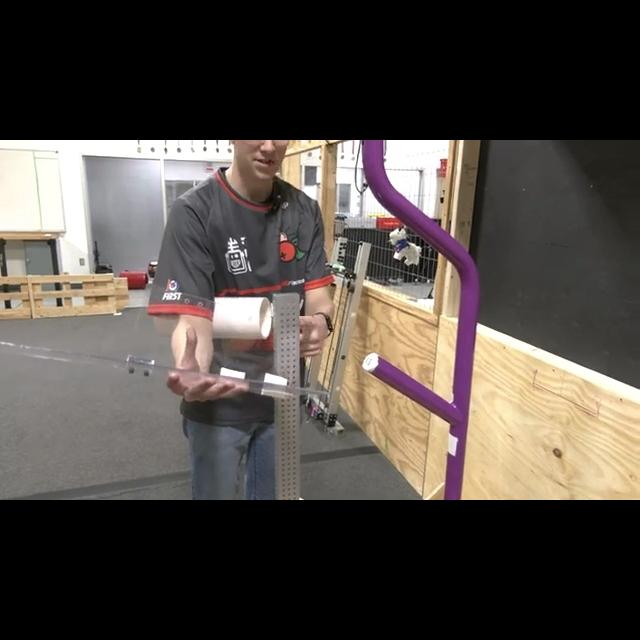CORAL: (210, 295, 272, 341)
